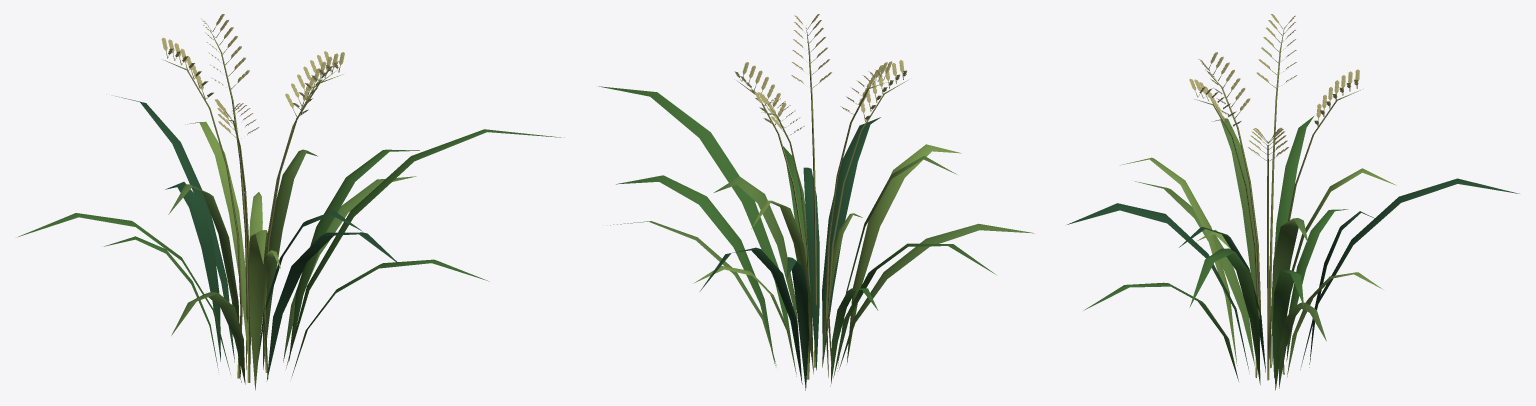
The model's file is meadow_grass_seed.glb.
3 views of the same model, side by side, from view 1: azimuth 30°, elevation 25°; view 2: azimuth 150°, elevation 25°; view 3: azimuth 270°, elevation 25° (orthographic). The views are drawn at different scales.
Parts seen in each view (by area): view 1: body; view 2: body; view 3: body.
Boxes of the visible parts, x1,y1,x2,y2 form: body: (17, 14, 564, 390); body: (598, 14, 1034, 390); body: (1067, 14, 1519, 390).
Size of the model in its own units: 1.21 by 0.8214 by 1.05.
